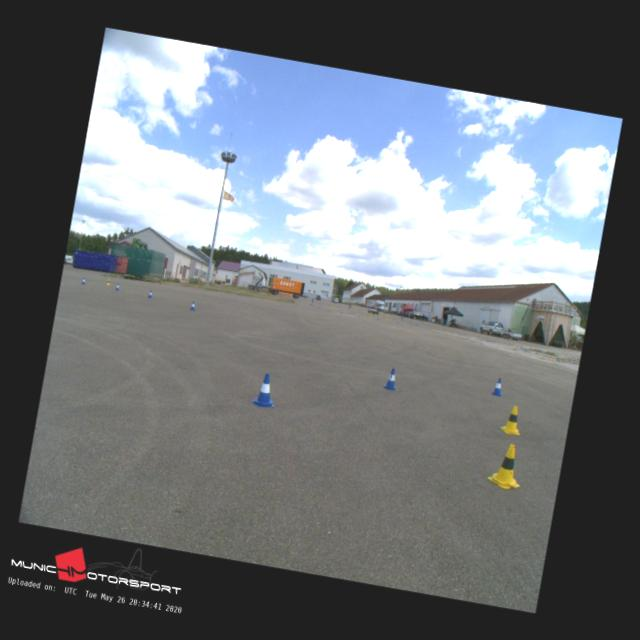blue_cone: (250, 371, 279, 408), (380, 366, 400, 389), (490, 377, 506, 395), (188, 300, 196, 310), (147, 289, 153, 298), (115, 282, 120, 290), (81, 276, 86, 284)
yellow_cone: (486, 440, 526, 490), (498, 404, 524, 436), (106, 278, 110, 286)
